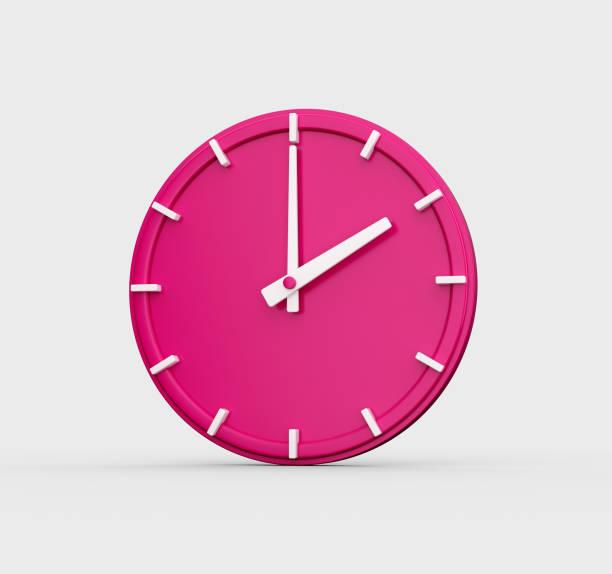clock: (131, 107, 478, 471)
